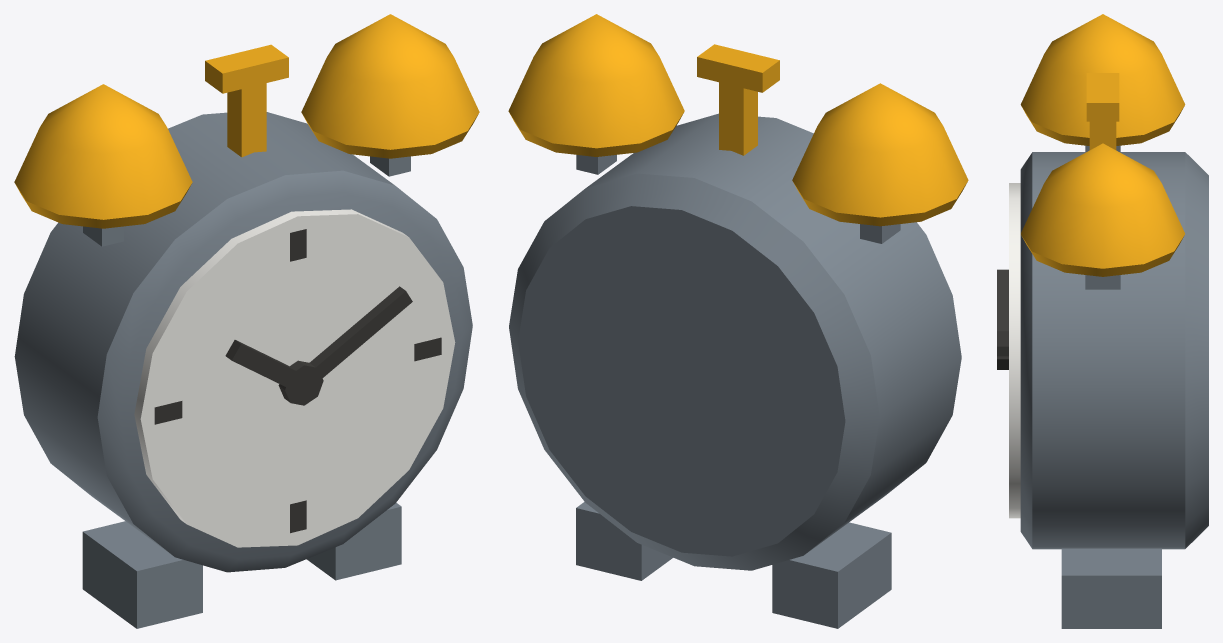
Rendered from clock.glb.
The picture shows the model from 3 angles, left to right: view 1: azimuth 30°, elevation 25°; view 2: azimuth 150°, elevation 25°; view 3: azimuth 270°, elevation 25°; orthographic projection. The views are drawn at different scales.
Parts seen in each view (by area): view 1: clock_structure; view 2: clock_structure; view 3: clock_structure.
Part boxes in pixels (<box>): clock_structure: <box>14,14,479,628</box>; clock_structure: <box>508,14,968,628</box>; clock_structure: <box>997,14,1208,628</box>.
Size of the model in its own units: 0.8 by 0.92 by 0.36.
